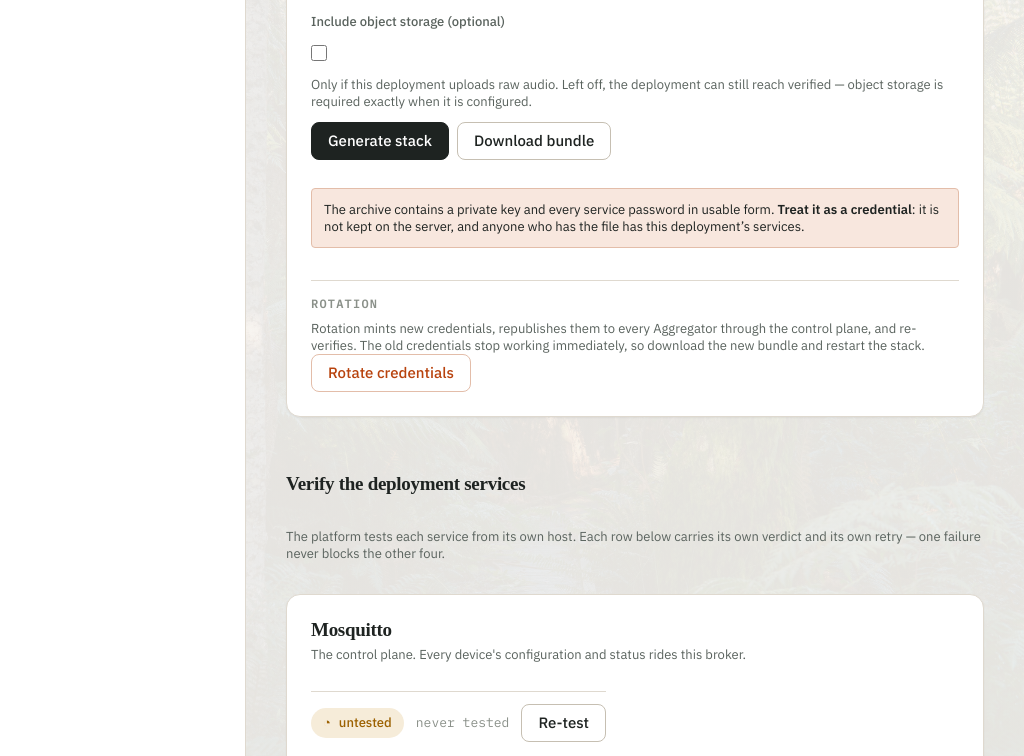
Scenario: rotation › asks for confirmation before rotating every credential
(page scrolled)
Click the button with test id "stack-rotate" showing "Rotate credentials": (391, 373) [311,354,471,392]
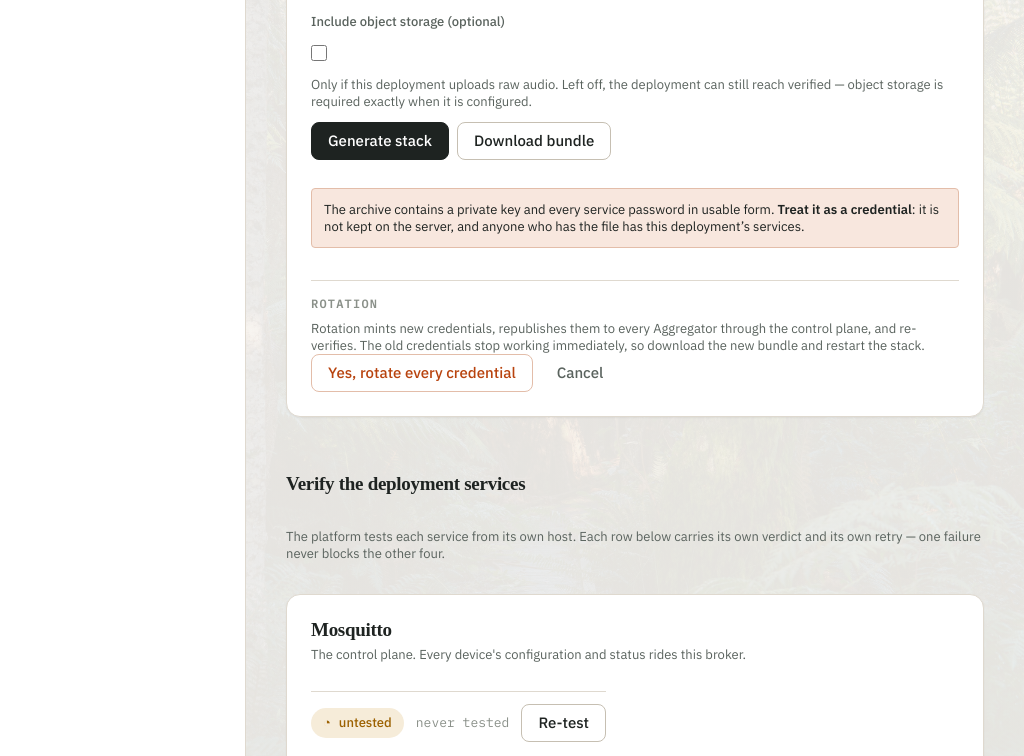
Click the button "Cancel": (580, 373) [541,354,619,392]
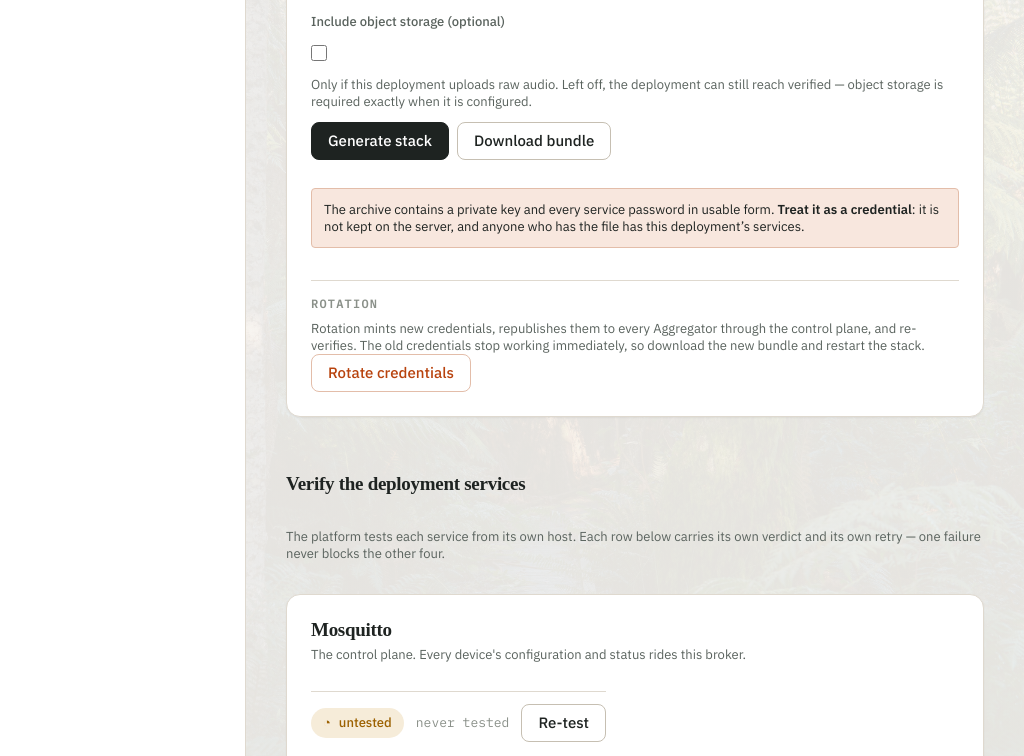
Click the button with test id "stack-rotate" showing "Rotate credentials": (391, 373) [311,354,471,392]
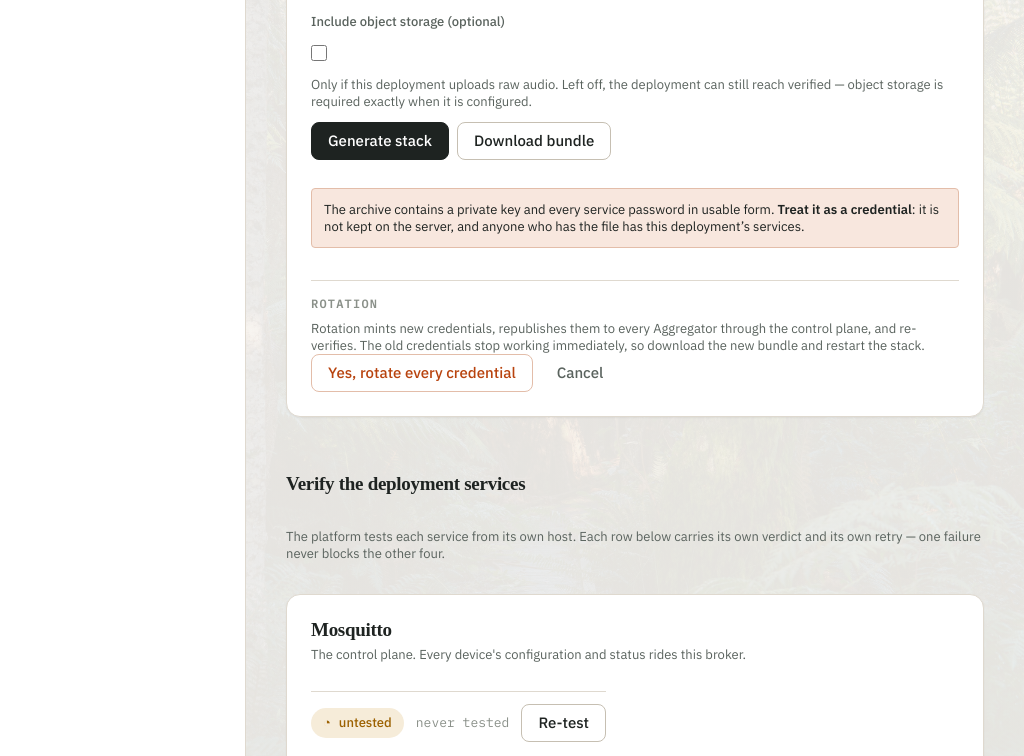
Click the button "Yes, rotate every credential": (422, 373) [311,354,533,392]
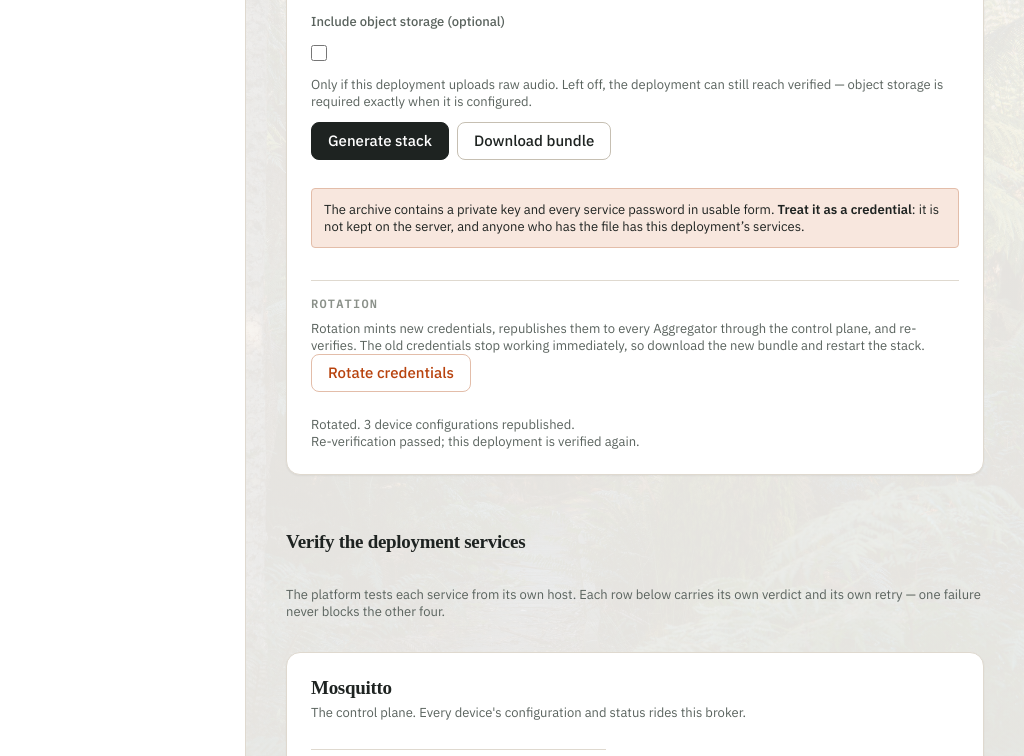
Expected: the element with test id "stack-rotation-result" is shown, [311,416,640,450]
